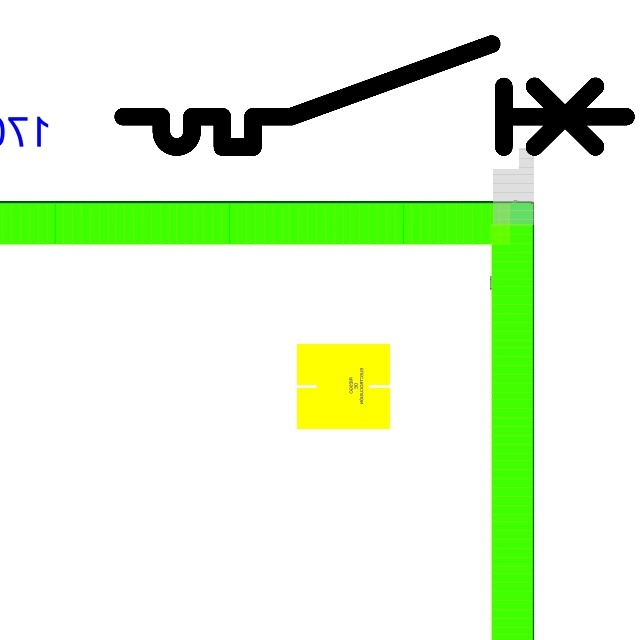interruptor_termomagnetico: (110, 31, 639, 160)
